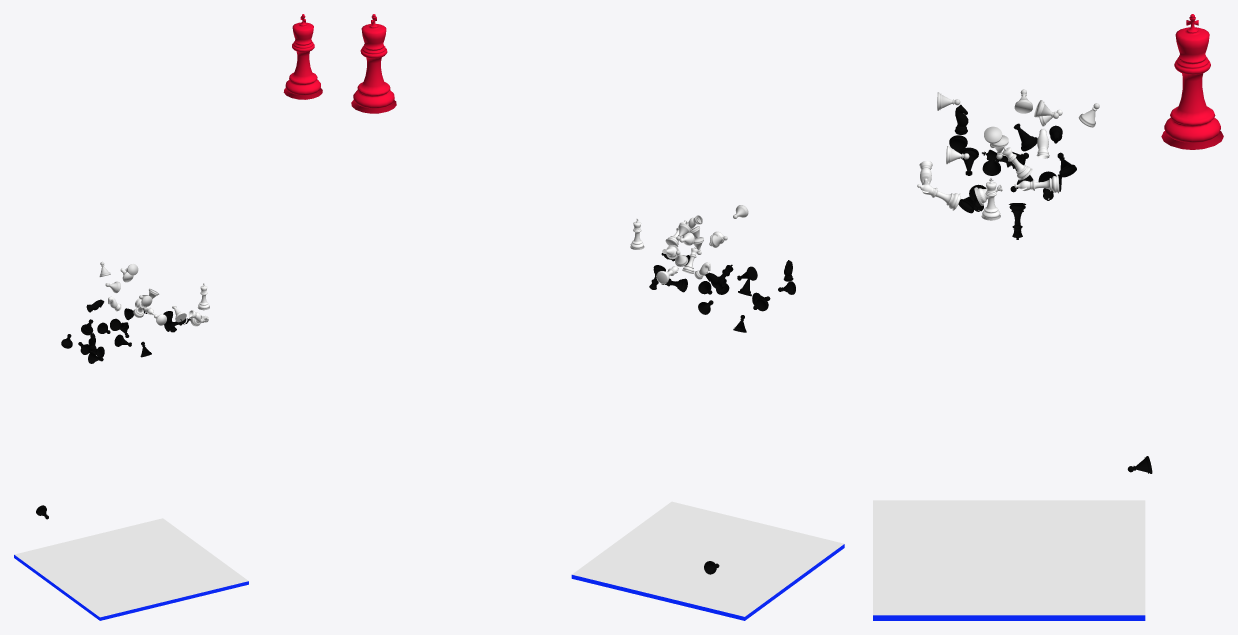
Rendered from echiquier.glb.
3 views of the same model, side by side, from view 1: azimuth 30°, elevation 25°; view 2: azimuth 150°, elevation 25°; view 3: azimuth 270°, elevation 25° (orthographic). The views are drawn at different scales.
Parts seen in each view (by area): view 1: echiquier, roi rouge; view 2: echiquier, roi rouge; view 3: echiquier, roi rouge.
Boxes of the visible parts, x1=… form: echiquier: x1=14, y1=518, x2=248, y2=620; roi rouge: x1=283, y1=14, x2=322, y2=99; echiquier: x1=571, y1=501, x2=844, y2=620; roi rouge: x1=351, y1=14, x2=396, y2=113; echiquier: x1=873, y1=500, x2=1145, y2=620; roi rouge: x1=1161, y1=14, x2=1223, y2=149.
Bounding box in the file's own units: 4.31 × 5.89 × 2.58.
